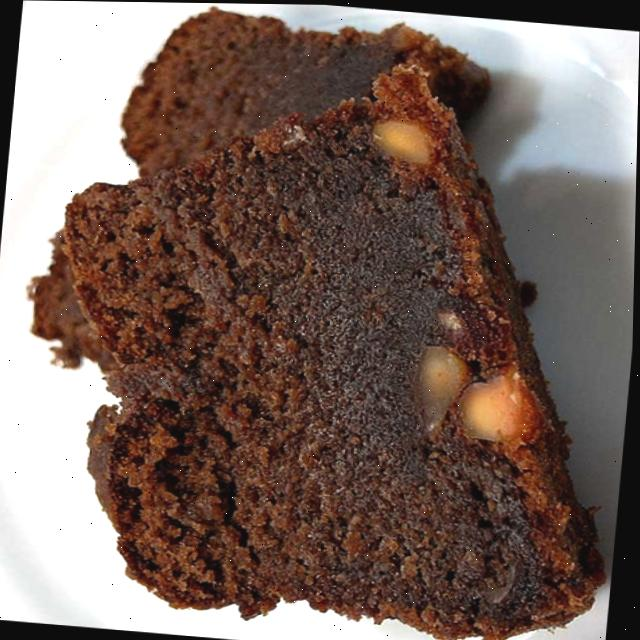蛋糕甜品: (1, 0, 608, 630)
